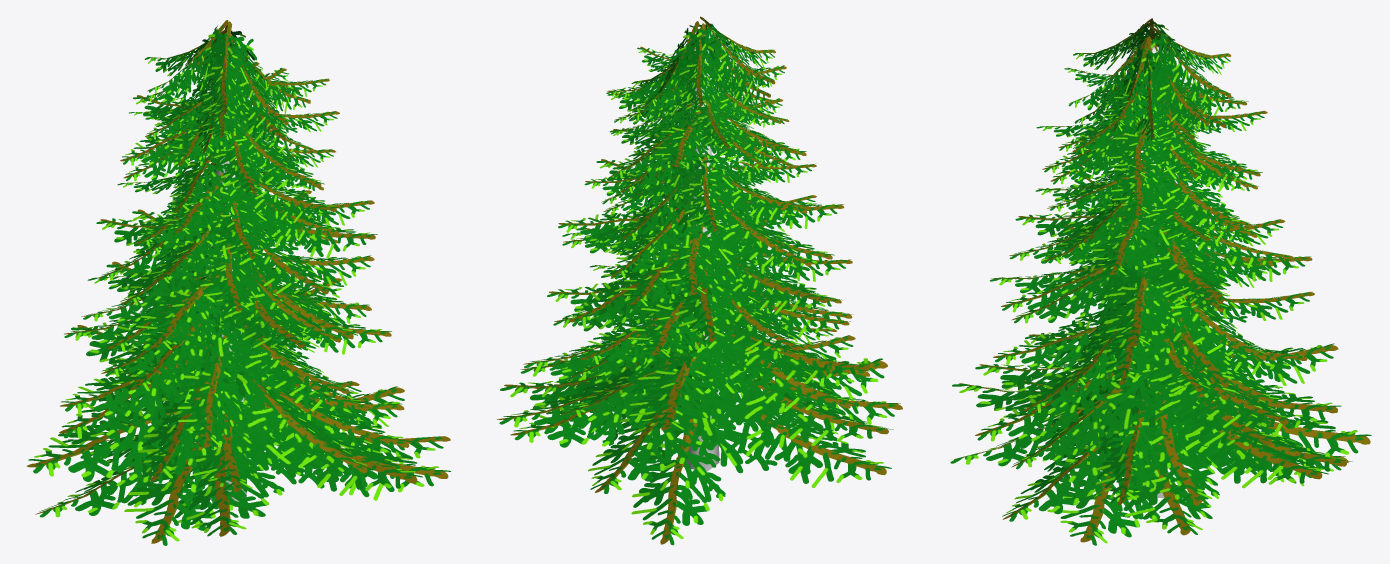
Rendered from puu.fbx.
3 views of the same model, side by side, from view 1: azimuth 30°, elevation 25°; view 2: azimuth 150°, elevation 25°; view 3: azimuth 270°, elevation 25° (orthographic). The views are drawn at different scales.
Parts seen in each view (by area): view 1: oksat; view 2: oksat, Cube; view 3: oksat.
Boxes of the visible parts, x1,y1,x2,y2 form: oksat: [27, 20, 450, 545]; oksat: [497, 16, 902, 545]; Cube: [683, 48, 719, 471]; oksat: [950, 18, 1371, 545].
Bounding box in the file's own units: 2690 × 3088 × 2545.
